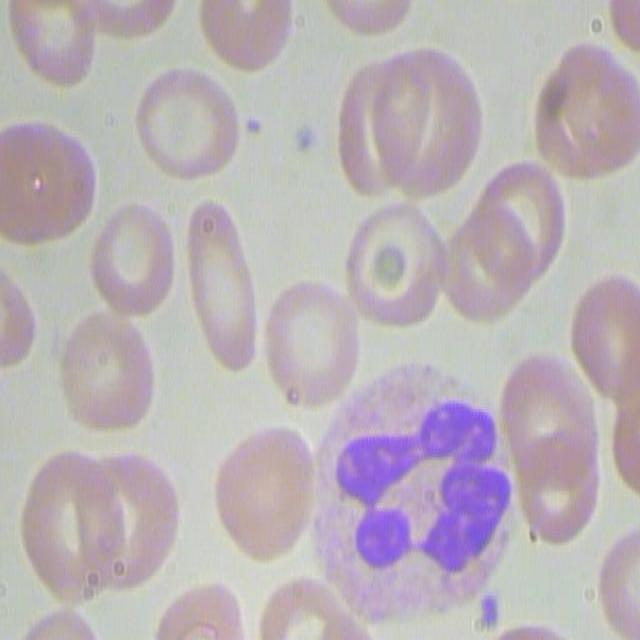RBC: (335, 46, 484, 212), (441, 161, 569, 333), (504, 347, 606, 556), (20, 444, 123, 601), (342, 192, 448, 343), (532, 44, 637, 188), (211, 420, 311, 564), (183, 199, 265, 373), (135, 66, 245, 186), (0, 116, 93, 255), (264, 276, 358, 413), (82, 451, 179, 580), (59, 312, 158, 431), (87, 196, 180, 320), (569, 272, 640, 403), (6, 0, 102, 87), (251, 568, 367, 640), (197, 0, 294, 72), (153, 577, 249, 640), (70, 0, 186, 47), (599, 519, 640, 638), (0, 254, 35, 378), (316, 0, 418, 36)
WBC: (346, 392, 512, 577)
platelets: (476, 590, 506, 631), (297, 122, 318, 152)
